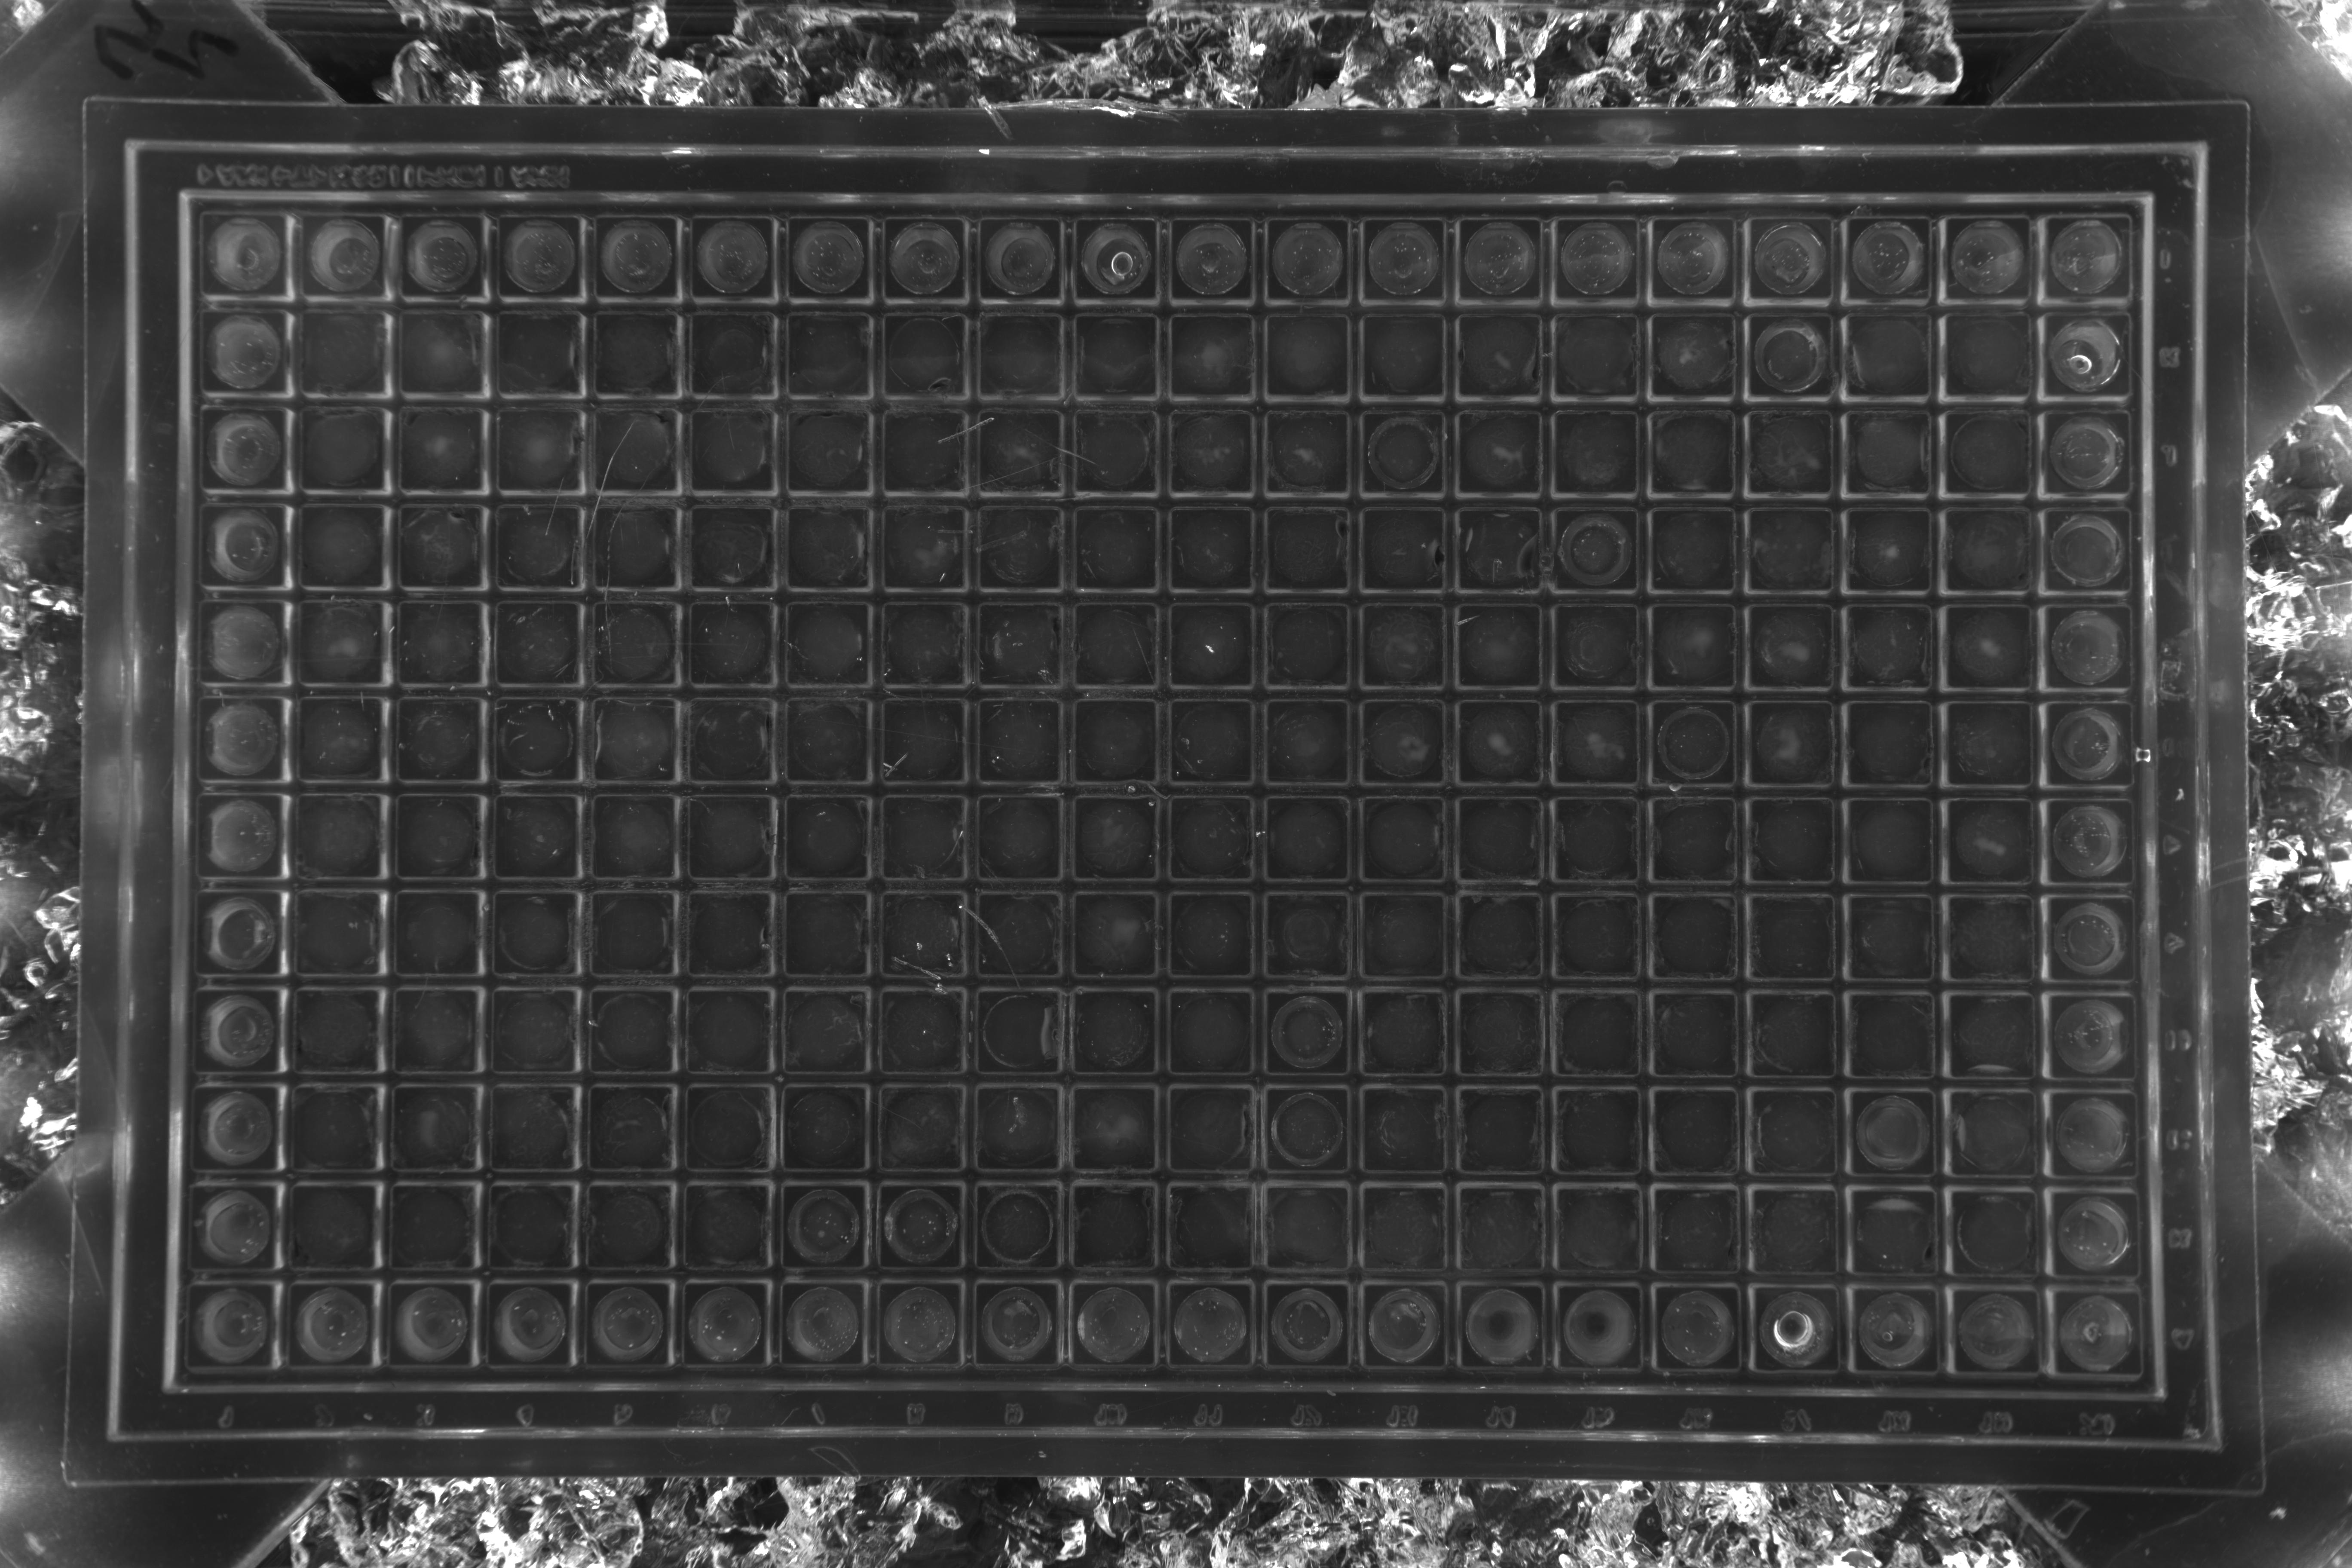WM_well: (2063, 1351, 2152, 1440), (492, 1043, 581, 1130), (194, 1143, 282, 1230), (294, 1143, 381, 1230), (303, 555, 390, 642), (303, 360, 390, 448), (401, 264, 488, 352), (401, 555, 488, 642), (782, 1339, 870, 1426), (789, 849, 877, 936), (887, 752, 975, 840), (887, 269, 975, 357), (887, 366, 975, 453), (980, 1337, 1067, 1424), (1176, 269, 1263, 357), (1176, 464, 1263, 551), (1176, 1045, 1263, 1132), (1274, 850, 1361, 938), (1274, 1143, 1361, 1230), (1370, 656, 1458, 744), (1470, 1244, 1557, 1332), (1564, 850, 1652, 938), (1760, 658, 1848, 745), (1864, 1150, 1951, 1237), (2060, 856, 2147, 943)
